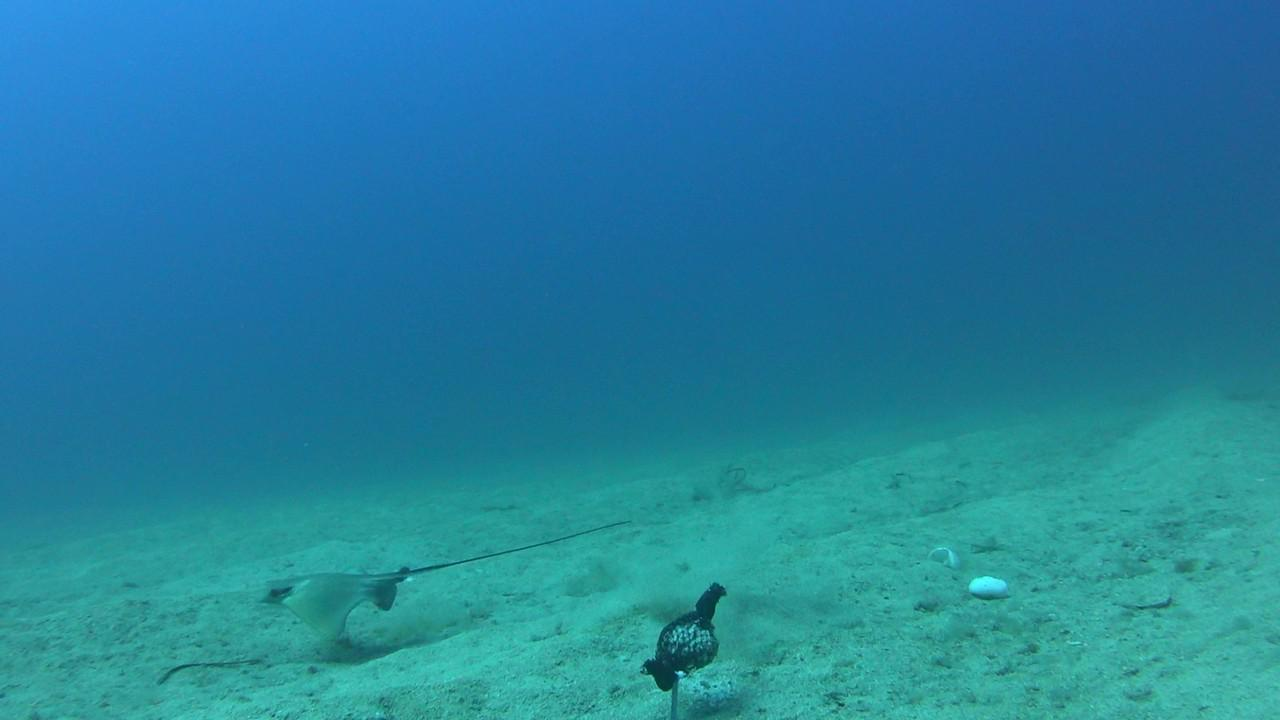myliobatis: (238, 523, 650, 645)
